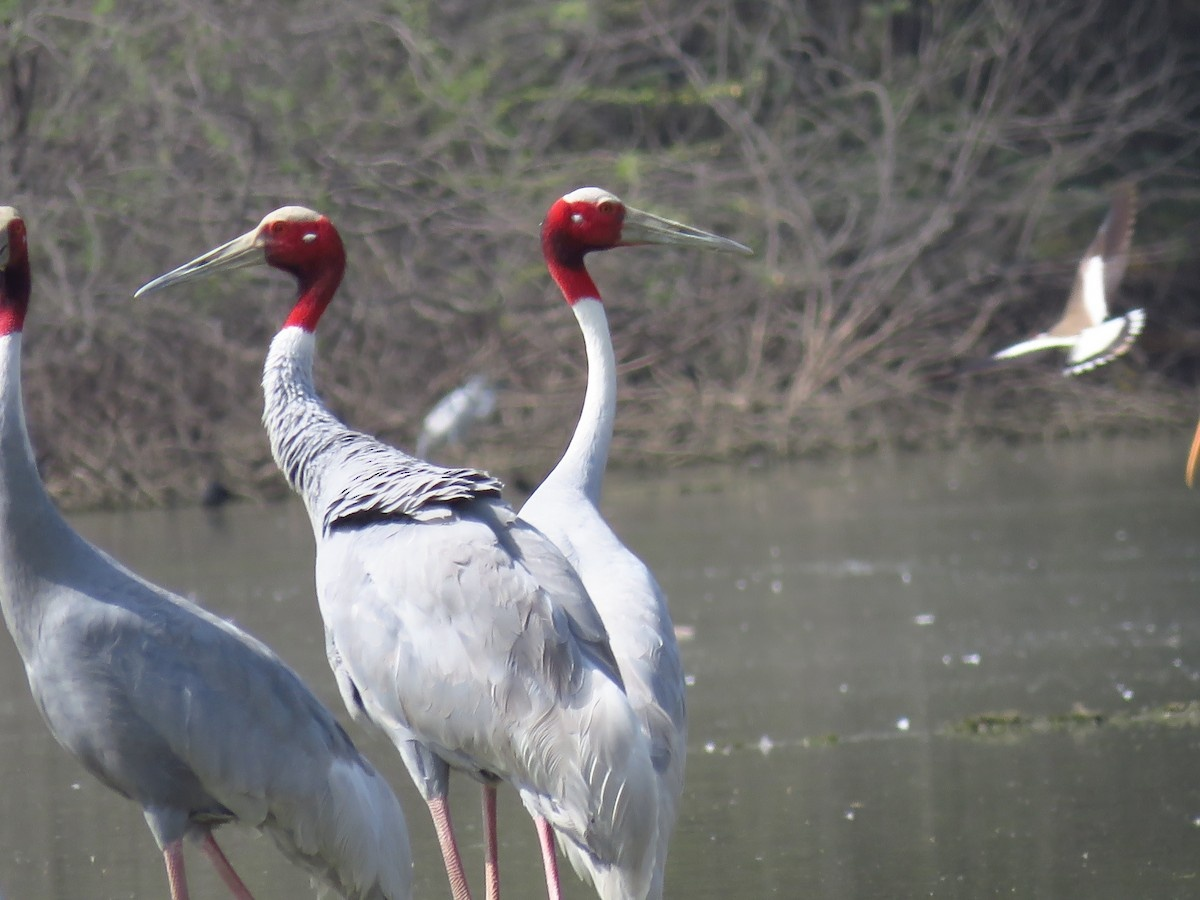crane: (128, 186, 649, 900), (1, 199, 418, 900), (427, 182, 776, 900)
